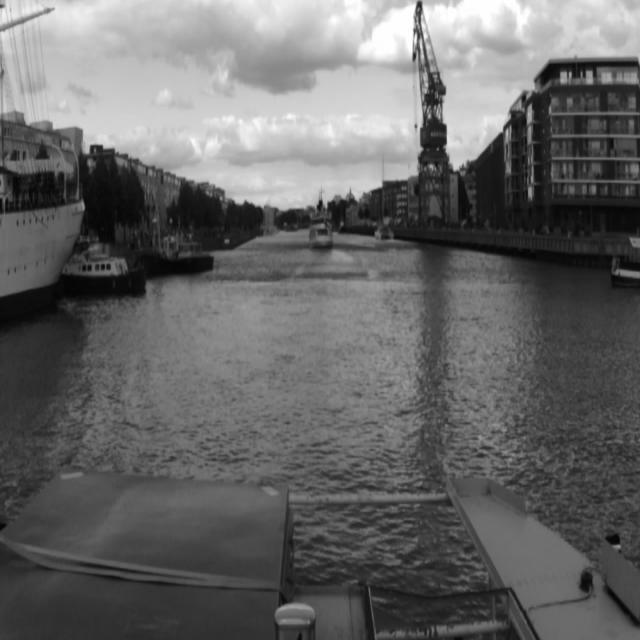ship: (0, 1, 84, 313), (61, 234, 148, 298), (374, 153, 392, 239), (310, 197, 332, 247), (150, 237, 178, 274), (611, 253, 640, 288), (179, 244, 215, 270)
